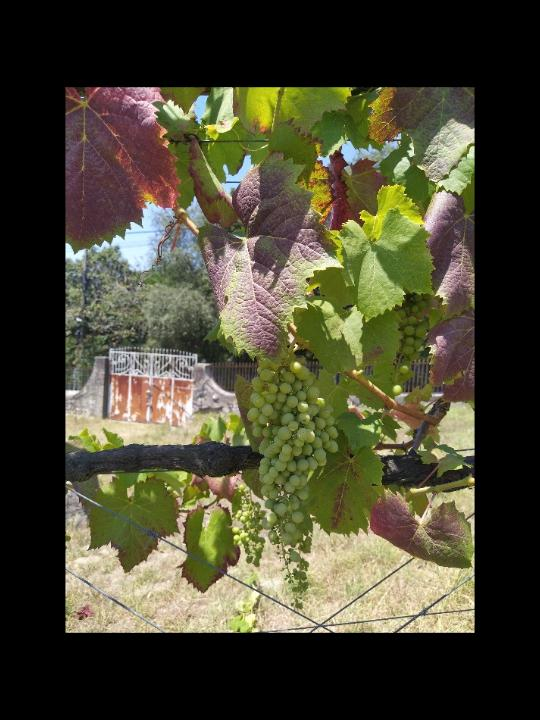grape: (248, 347, 341, 615), (226, 484, 273, 570)
